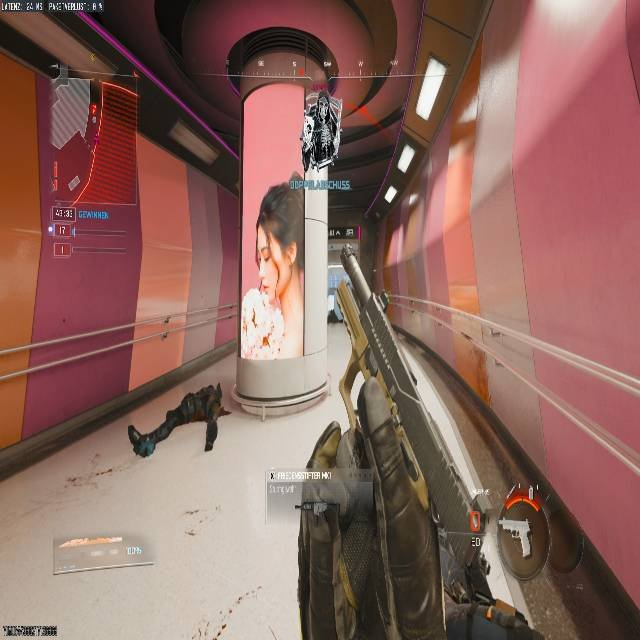player: (125, 384, 225, 457)
